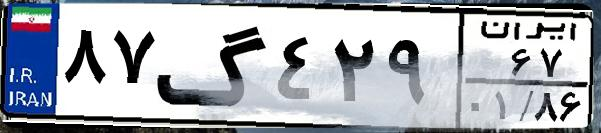0: (470, 70, 495, 125)
1: (495, 70, 520, 125)
2: (330, 28, 385, 110)
4: (270, 28, 330, 110)
6: (560, 70, 590, 125), (508, 27, 537, 80)
7: (110, 28, 156, 98), (537, 27, 568, 80)
8: (57, 26, 110, 100), (535, 70, 560, 125)
9: (385, 28, 445, 110)
گ: (156, 12, 270, 120)
